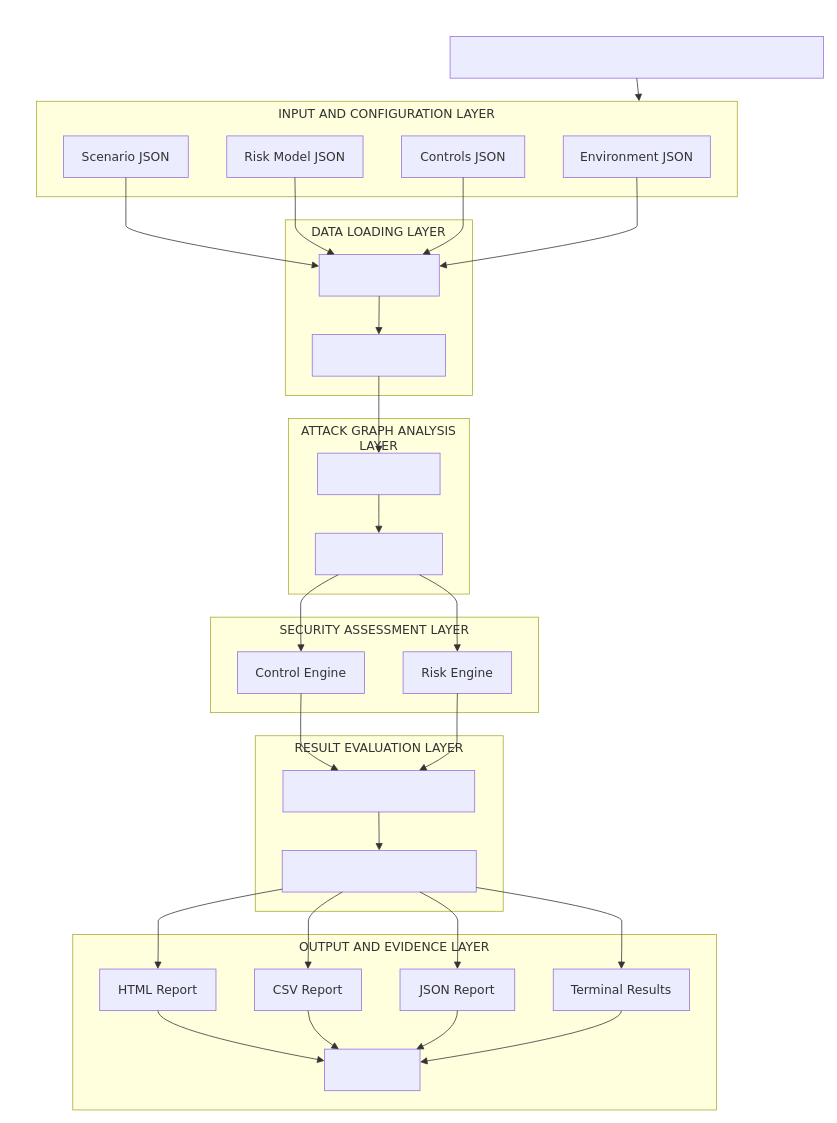
Some shapes in this 837 by 1123 pixel diagram are drawn without their labels. The shapes that lost their labels are listed below. From the top down, each one's centre as x and y in pixels, then its label:
At (x=636, y=57): "SITAS - Sunhaven Identity Threat and Attack-Path Simulator".
At (x=378, y=275): "Model Loader".
At (x=378, y=355): "Input Validation".
At (x=378, y=473): "Graph Builder".
At (x=378, y=553): "BFS Pathfinder".
At (x=378, y=791): "Before / After Comparison".
At (x=378, y=871): "OPEN or BLOCKED Decision".
At (x=372, y=1069): "Evidence".
